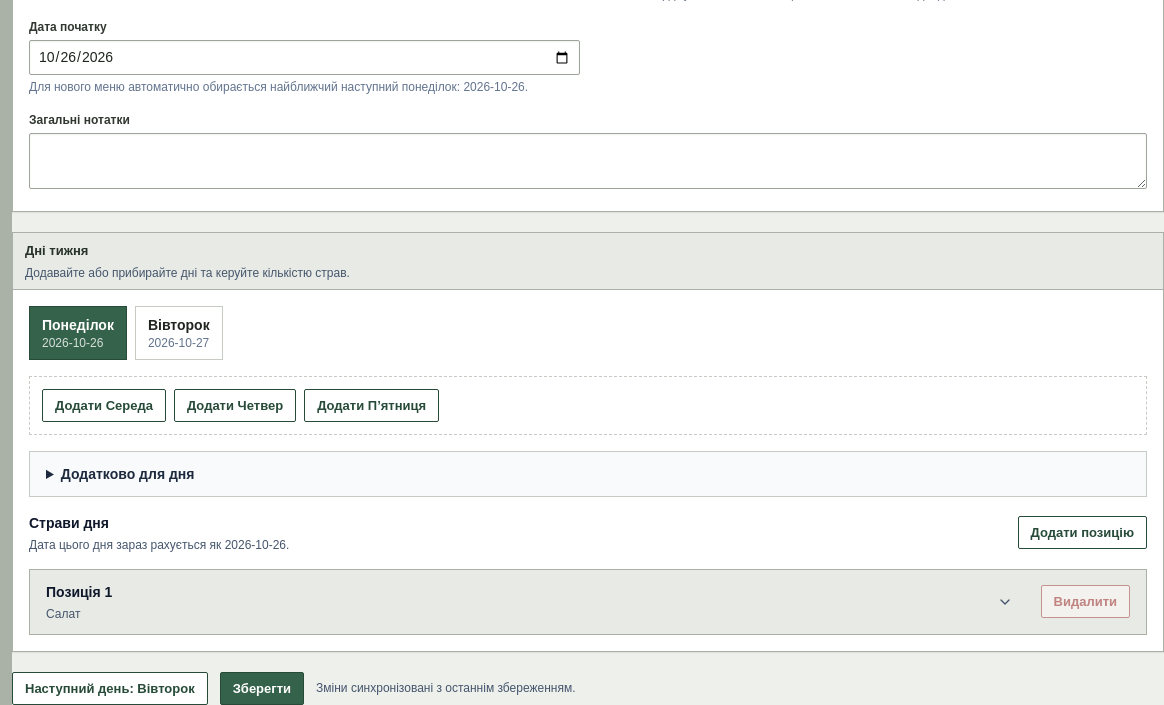
Test: WeeklyMenuEditorForm › toasts and opens the nearest invalid menu position
(page scrolled)
Click the button "Зберегти" at (262, 688), box [220,672,304,704]
(page scrolled)
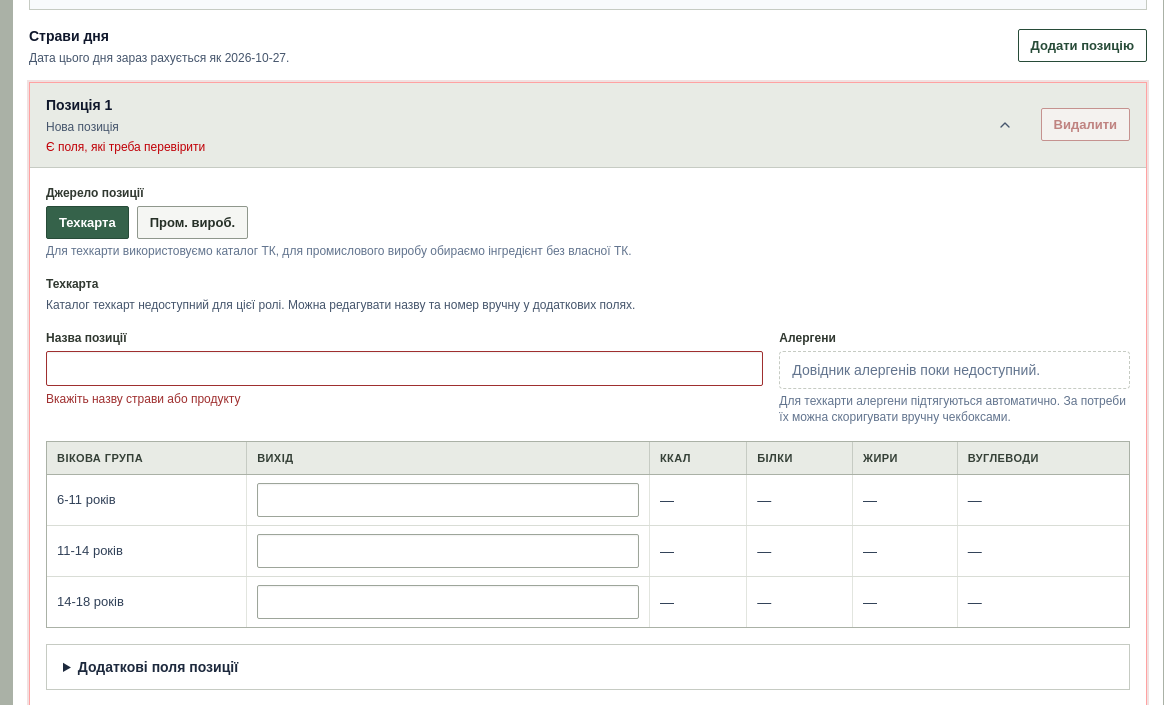
Result: the text "Вкажіть назву страви або продукту" is shown at [46,392,240,406]
